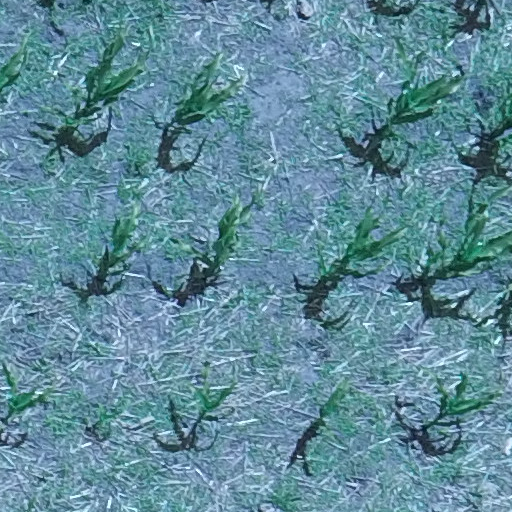planta: (55, 28, 143, 126), (314, 207, 405, 287), (379, 73, 464, 148), (167, 60, 241, 134), (190, 195, 251, 276), (423, 372, 494, 436), (97, 218, 136, 279), (190, 365, 235, 412), (319, 388, 349, 419)
